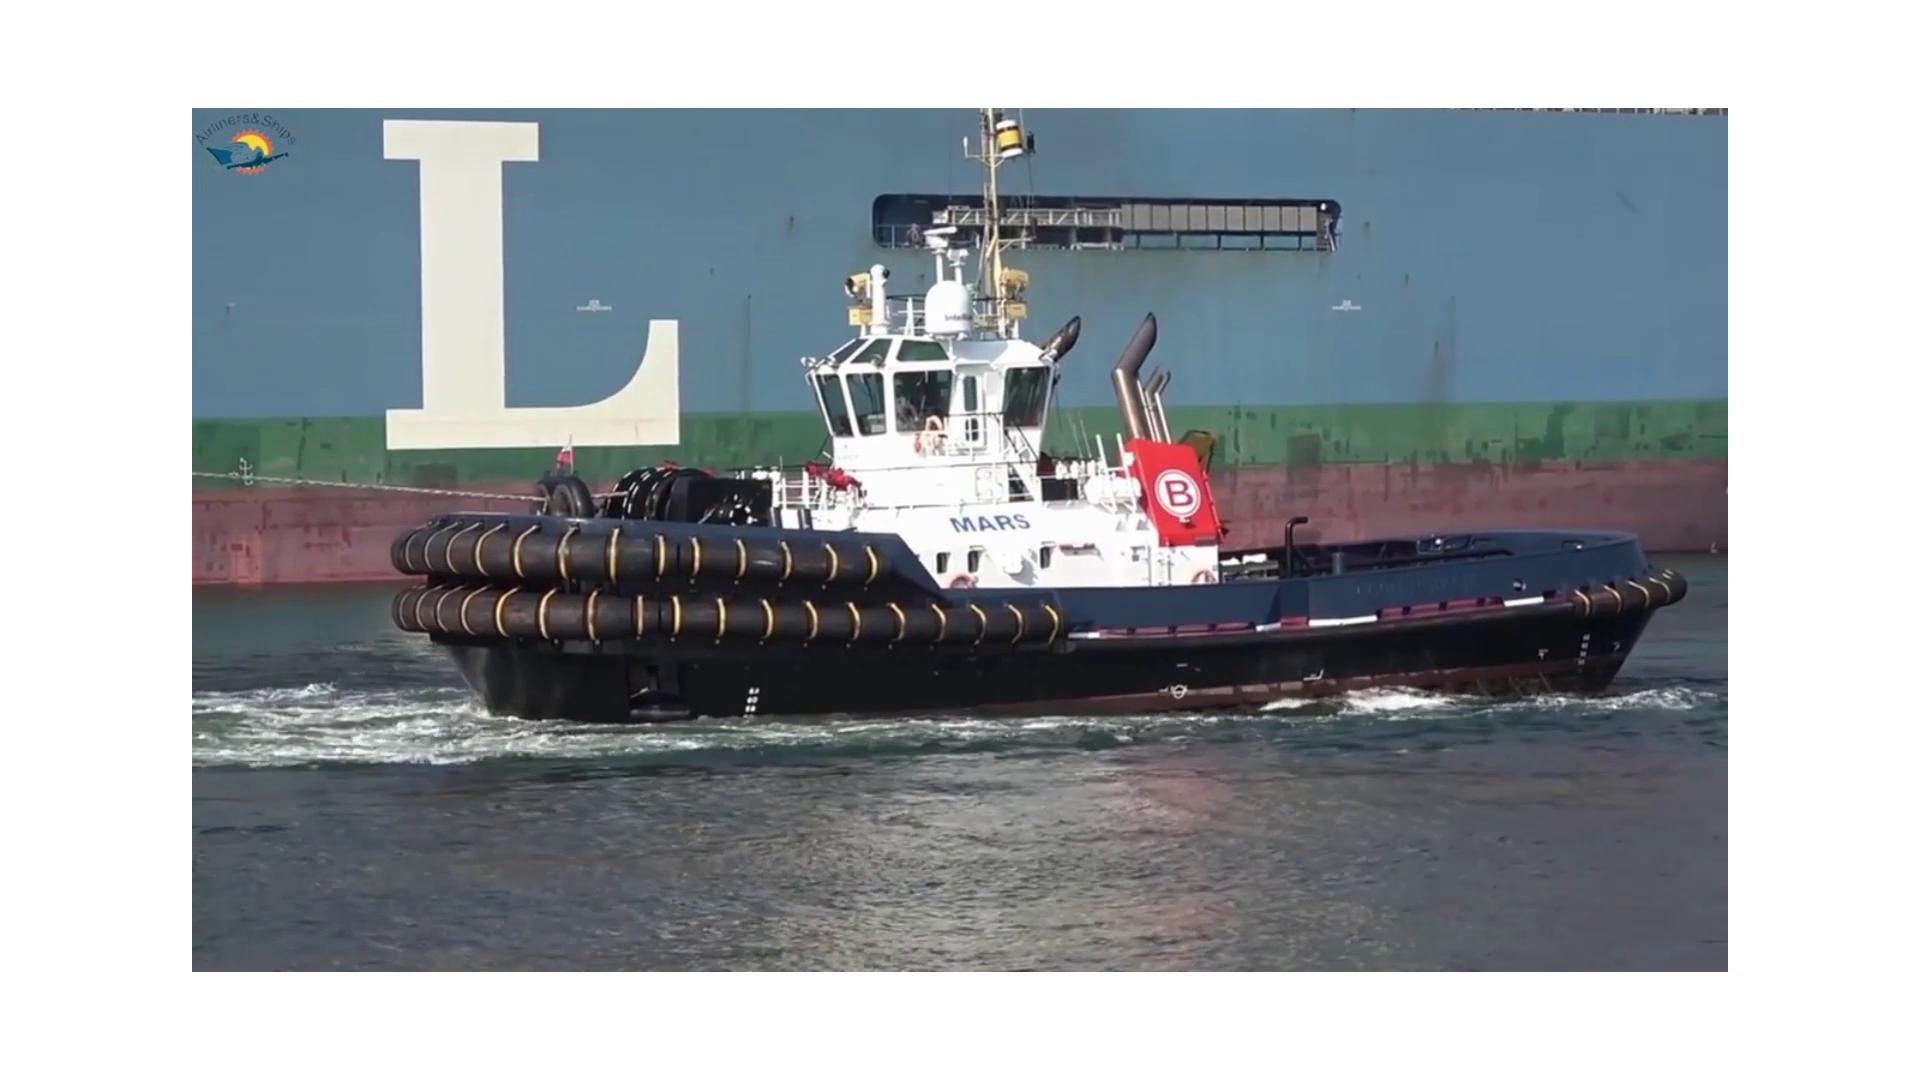OCR: (360, 102, 724, 483)
